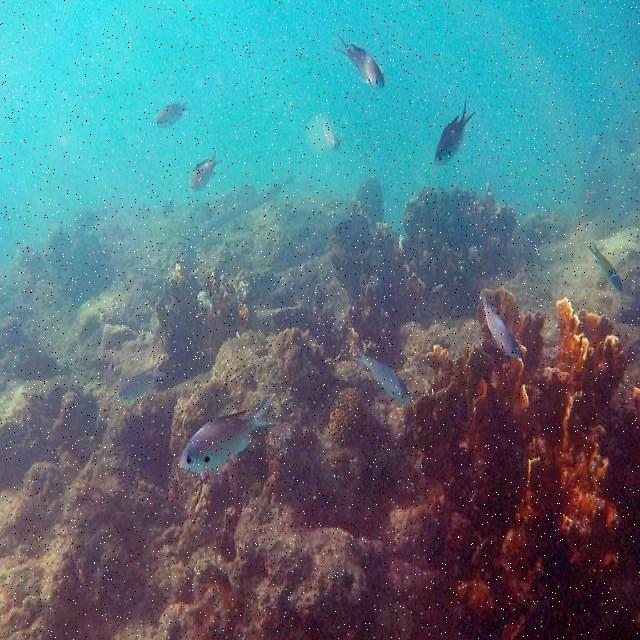fish: (179, 394, 277, 475), (350, 334, 411, 403), (333, 28, 384, 89), (432, 94, 475, 164), (479, 291, 521, 358), (587, 237, 623, 295), (189, 148, 225, 194), (155, 90, 194, 132), (319, 123, 340, 151)
